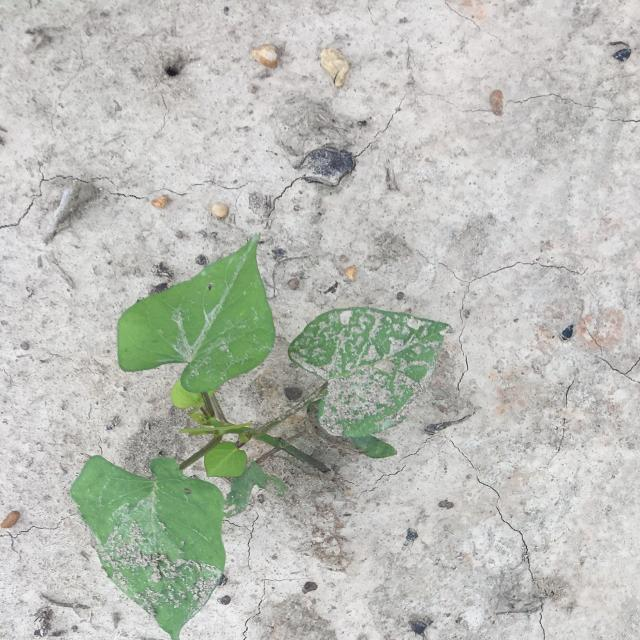MorningGlory: (70, 232, 452, 640)
